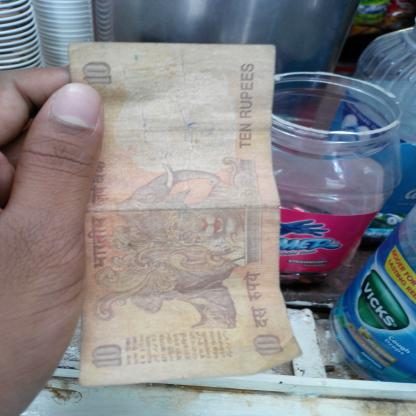Old10Back: (68, 42, 303, 387)
